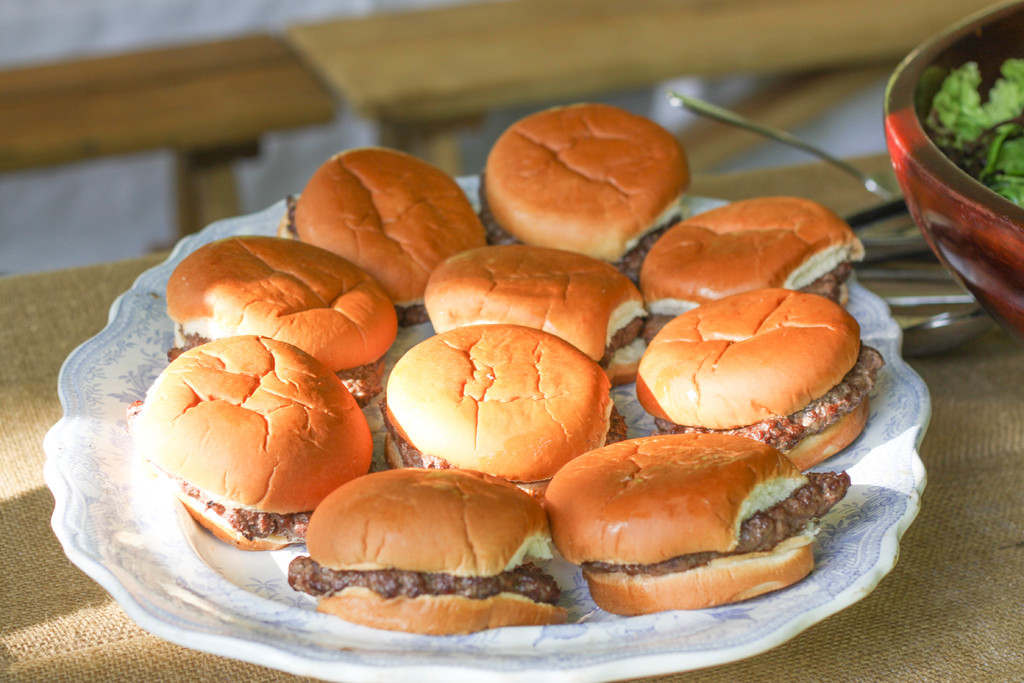Hamburger: (127, 104, 889, 634)
